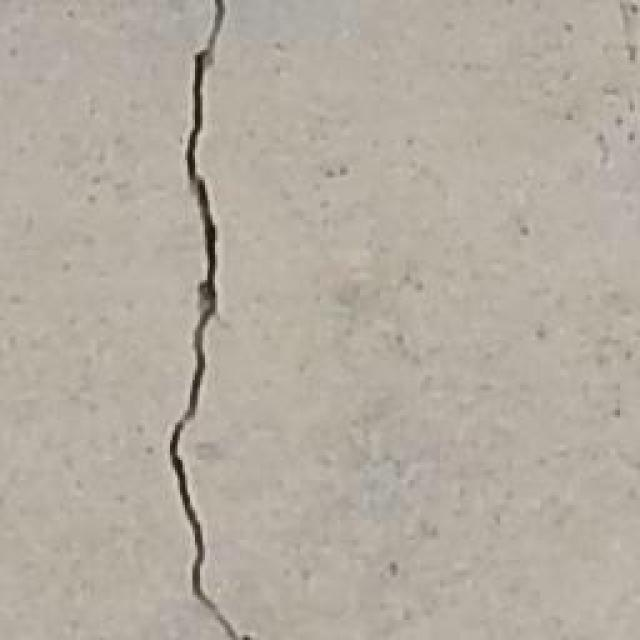concrete-crack: (165, 0, 250, 640)
